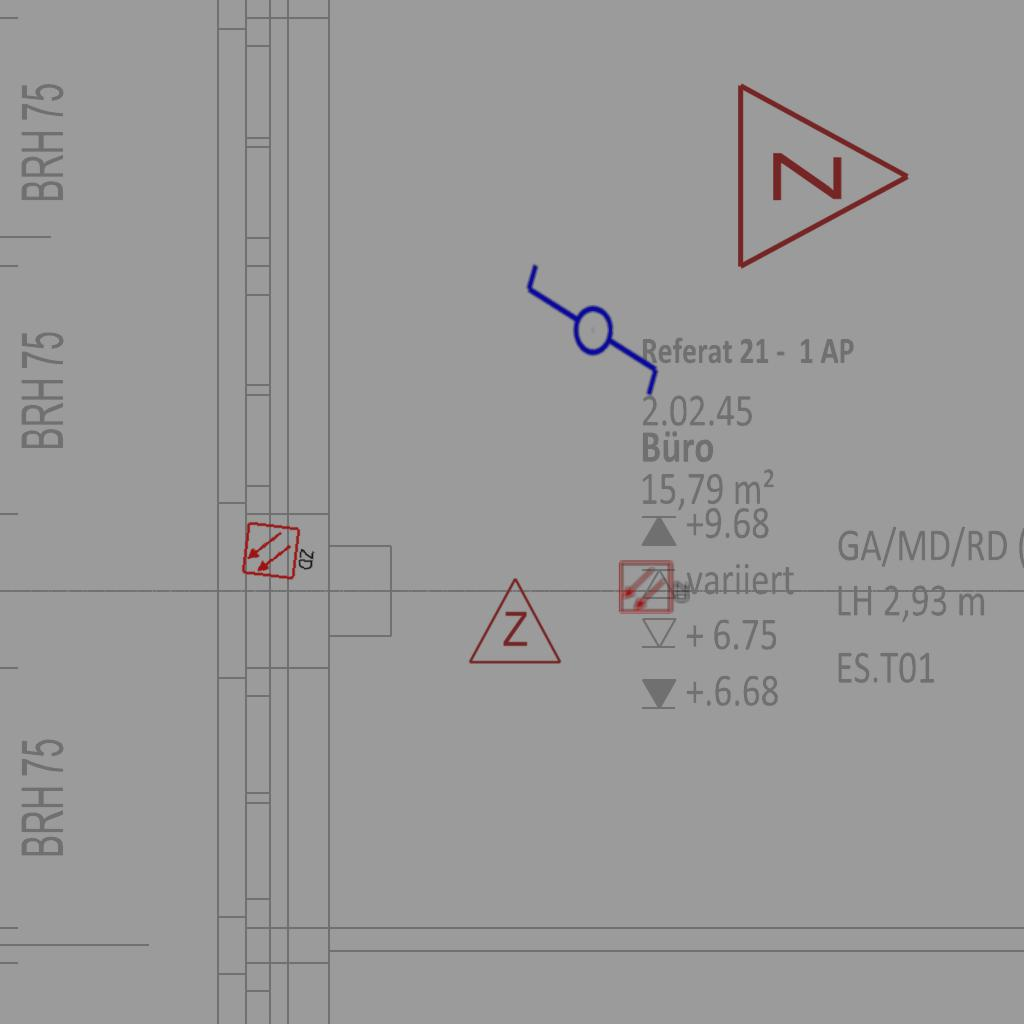Wechselschalter: (519, 260, 663, 417)
ZD_Melder_in_Zwischendecke_mit_Revisionsoeffnung_mind_40_x_40_cm: (240, 518, 321, 584), (618, 558, 692, 615)
Zimmersignalleuchte: (723, 76, 923, 272), (465, 571, 563, 671)
